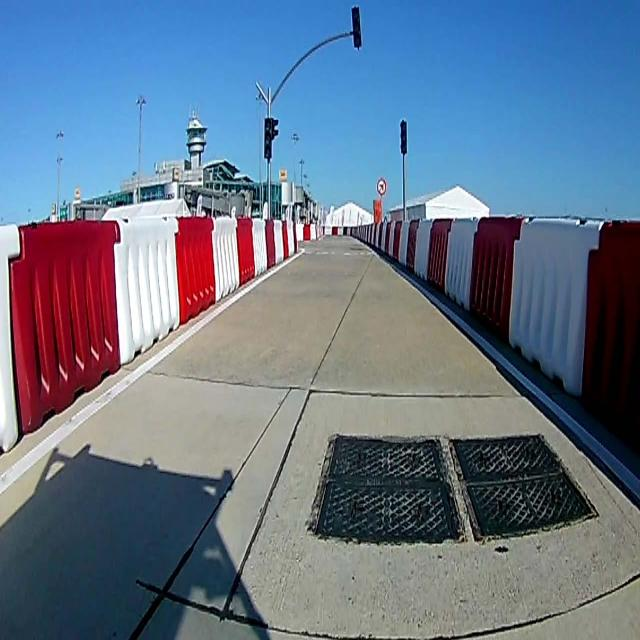soladonulmez: (376, 177, 386, 196)
